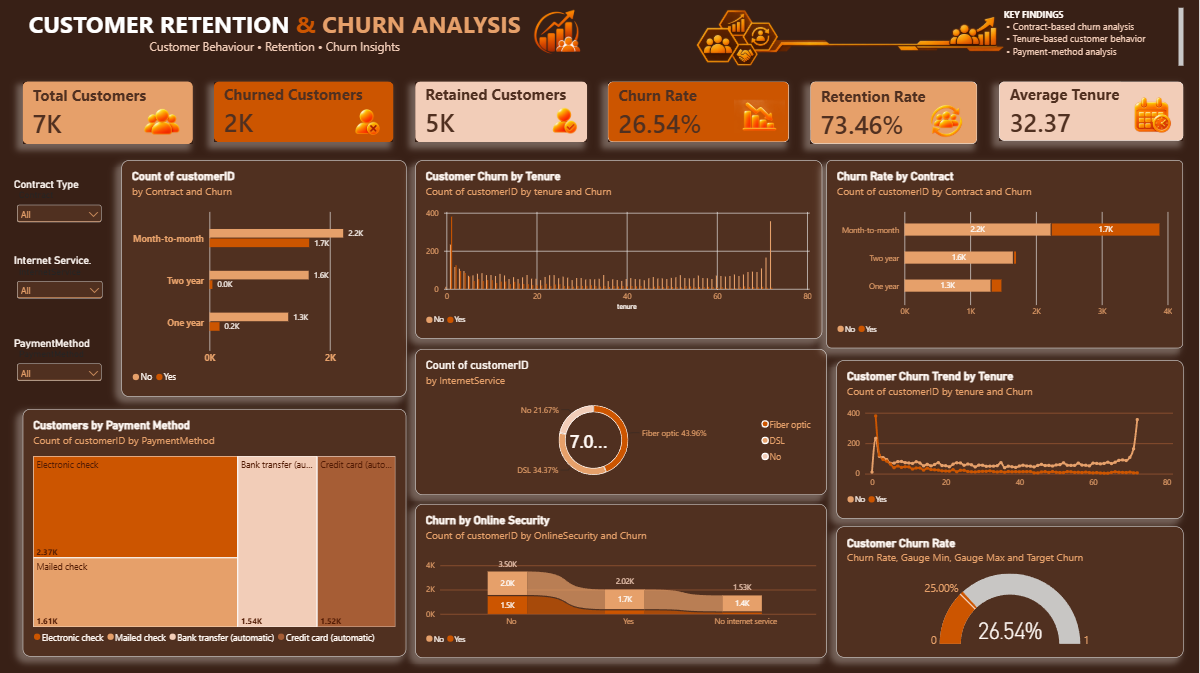

The dashboard page shown, as its layout file describes it:
{"tool":"powerbi","page":{"name":"Page 1","canvas":[1920,1080],"ordinal":0},"visuals":[{"type":"cardVisual","fields":{"Data":["WA_Fn-UseC_-Telco-Customer-Churn.Churned Customers"]},"box":[344,132.5,287.5,97.5],"z":0},{"type":"cardVisual","fields":{"Data":["WA_Fn-UseC_-Telco-Customer-Churn.Total Customers"]},"box":[37.5,132.5,272.5,100],"z":1000},{"type":"cardVisual","fields":{"Data":["WA_Fn-UseC_-Telco-Customer-Churn.Retained Customers"]},"box":[665.5,132.5,275,97.5],"z":2000},{"type":"cardVisual","fields":{"Data":["WA_Fn-UseC_-Telco-Customer-Churn.Churn Rate"]},"box":[974.5,132.5,290,97.5],"z":3000},{"type":"cardVisual","fields":{"Data":["WA_Fn-UseC_-Telco-Customer-Churn.Retention Rate"]},"box":[1298.5,132.5,267.5,100],"z":4000},{"type":"cardVisual","fields":{"Data":["WA_Fn-UseC_-Telco-Customer-Churn.Average Tenure"]},"box":[1600,132.5,295,95],"z":5000},{"type":"clusteredBarChart","fields":{"Category":["WA_Fn-UseC_-Telco-Customer-Churn.Contract"],"Series":["WA_Fn-UseC_-Telco-Customer-Churn.Churn"],"Y":["CountNonNull(WA_Fn-UseC_-Telco-Customer-Churn.customerID)"]},"box":[195.4,258.8,456,378.2],"z":6000},{"type":"clusteredColumnChart","title":"Customer Churn by Tenure ","fields":{"Category":["WA_Fn-UseC_-Telco-Customer-Churn.tenure"],"Series":["WA_Fn-UseC_-Telco-Customer-Churn.Churn"],"Y":["CountNonNull(WA_Fn-UseC_-Telco-Customer-Churn.customerID)"]},"box":[666,258.8,651.5,285.9],"z":7000},{"type":"donutChart","fields":{"Category":["WA_Fn-UseC_-Telco-Customer-Churn.InternetService"],"Y":["CountNonNull(WA_Fn-UseC_-Telco-Customer-Churn.customerID)"]},"box":[666,559.2,658.7,233.4],"z":8000},{"type":"barChart","title":"Churn Rate by Contract","fields":{"Category":["WA_Fn-UseC_-Telco-Customer-Churn.Contract"],"Series":["WA_Fn-UseC_-Telco-Customer-Churn.Churn"],"Y":["CountNonNull(WA_Fn-UseC_-Telco-Customer-Churn.customerID)"]},"box":[1324.7,258.8,570,300.4],"z":9000},{"type":"treemap","title":"Customers by Payment Method","fields":{"Group":["WA_Fn-UseC_-Telco-Customer-Churn.PaymentMethod"],"Values":["CountNonNull(WA_Fn-UseC_-Telco-Customer-Churn.customerID)"]},"box":[38,656.9,613.5,396.3],"z":10000},{"type":"lineChart","title":"Customer Churn Trend by Tenure","fields":{"Category":["WA_Fn-UseC_-Telco-Customer-Churn.tenure"],"Series":["WA_Fn-UseC_-Telco-Customer-Churn.Churn"],"Y":["CountNonNull(WA_Fn-UseC_-Telco-Customer-Churn.customerID)"]},"box":[1339.1,577.3,555.6,253.4],"z":11000},{"type":"ribbonChart","title":"Churn by Online Security","fields":{"Category":["WA_Fn-UseC_-Telco-Customer-Churn.OnlineSecurity"],"Series":["WA_Fn-UseC_-Telco-Customer-Churn.Churn"],"Y":["CountNonNull(WA_Fn-UseC_-Telco-Customer-Churn.customerID)"]},"box":[666,807.1,658.7,246.1],"z":12000},{"type":"gauge","title":"Customer Churn Rate","fields":{"MaxValue":["WA_Fn-UseC_-Telco-Customer-Churn.Gauge Max"],"MinValue":["WA_Fn-UseC_-Telco-Customer-Churn.Gauge Min"],"TargetValue":["WA_Fn-UseC_-Telco-Customer-Churn.Target Churn"],"Y":["WA_Fn-UseC_-Telco-Customer-Churn.Churn Rate"]},"box":[1339.1,843.3,555.6,209.9],"z":13000},{"type":"slicer","title":"Contract Type","fields":{"Values":["WA_Fn-UseC_-Telco-Customer-Churn.Contract"]},"box":[23.5,285.9,144.8,86.9],"z":14000},{"type":"slicer","title":"Internet Service.","fields":{"Values":["WA_Fn-UseC_-Telco-Customer-Churn.InternetService"]},"box":[23.5,409,146.6,86.9],"z":15000},{"type":"slicer","title":"PaymentMethod","fields":{"Values":["WA_Fn-UseC_-Telco-Customer-Churn.PaymentMethod"]},"box":[23.5,539.3,144.8,76],"z":16000},{"type":"textbox","box":[23.5,14.5,834.3,103.2],"z":17000},{"type":"image","box":[827,0,132.1,103.2],"z":18000},{"type":"image","box":[217.2,153.8,86.9,86.9],"z":19000},{"type":"image","box":[555.6,153.8,68.8,86.9],"z":20000},{"type":"image","box":[872.3,162.9,68.8,67],"z":21000},{"type":"image","box":[1366.3,166.5,300.4,57.9],"z":22000},{"type":"image","box":[1176.3,150.2,81.4,76],"z":23000},{"type":"image","box":[1798.8,148.4,95.9,76],"z":24000},{"type":"textbox","box":[1599.7,14.5,295,103.2],"z":24001},{"type":"image","box":[827,14.5,1067.7,164.7],"z":24002}]}

Visuals, with their boxes in screenshot pixels (x1, y1, x2, y2), scaled from the page's 1920x1080 canvas onto the 1200x673 screenshot:
cardVisual - WA_Fn-UseC_-Telco-Customer-Churn.Churned Customers: box(215, 83, 395, 143)
cardVisual - WA_Fn-UseC_-Telco-Customer-Churn.Total Customers: box(23, 83, 194, 145)
cardVisual - WA_Fn-UseC_-Telco-Customer-Churn.Retained Customers: box(416, 83, 588, 143)
cardVisual - WA_Fn-UseC_-Telco-Customer-Churn.Churn Rate: box(609, 83, 790, 143)
cardVisual - WA_Fn-UseC_-Telco-Customer-Churn.Retention Rate: box(812, 83, 979, 145)
cardVisual - WA_Fn-UseC_-Telco-Customer-Churn.Average Tenure: box(1000, 83, 1184, 142)
clusteredBarChart - WA_Fn-UseC_-Telco-Customer-Churn.Contract x WA_Fn-UseC_-Telco-Customer-Churn.Churn: box(122, 161, 407, 397)
"Customer Churn by Tenure " clusteredColumnChart: box(416, 161, 823, 339)
donutChart - WA_Fn-UseC_-Telco-Customer-Churn.InternetService x CountNonNull(WA_Fn-UseC_-Telco-Customer-Churn.customerID): box(416, 348, 828, 494)
"Churn Rate by Contract" barChart: box(828, 161, 1184, 348)
"Customers by Payment Method" treemap: box(24, 409, 407, 656)
"Customer Churn Trend by Tenure" lineChart: box(837, 360, 1184, 518)
"Churn by Online Security" ribbonChart: box(416, 503, 828, 656)
"Customer Churn Rate" gauge: box(837, 526, 1184, 656)
"Contract Type" slicer: box(15, 178, 105, 232)
"Internet Service." slicer: box(15, 255, 106, 309)
"PaymentMethod" slicer: box(15, 336, 105, 383)
textbox: box(15, 9, 536, 73)
image: box(517, 0, 599, 64)
image: box(136, 96, 190, 150)
image: box(347, 96, 390, 150)
image: box(545, 102, 588, 143)
image: box(854, 104, 1042, 140)
image: box(735, 94, 786, 141)
image: box(1124, 92, 1184, 140)
textbox: box(1000, 9, 1184, 73)
image: box(517, 9, 1184, 112)
